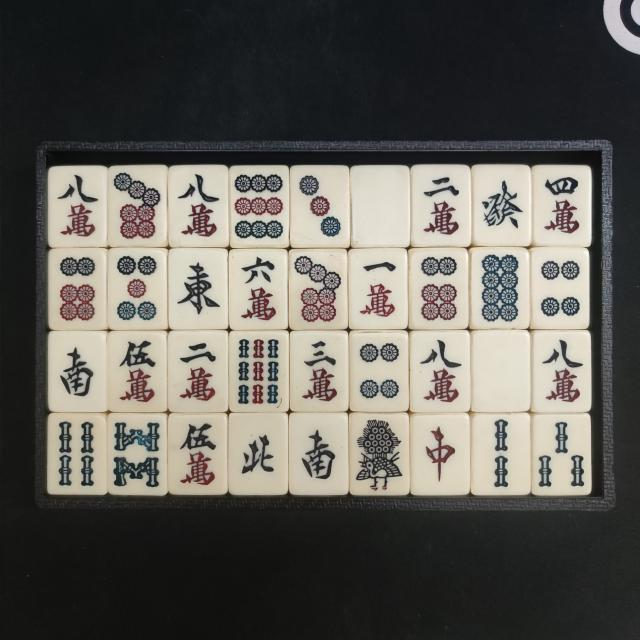hdg: (478, 170, 526, 240)
hdr: (418, 421, 464, 488)
hdw: (356, 172, 406, 241), (476, 337, 526, 404)
hwe: (173, 252, 224, 325)
hwn: (236, 420, 280, 488)
hws: (54, 337, 101, 406), (296, 416, 340, 489)
sb1: (352, 418, 407, 492)
sb2: (480, 418, 524, 491)
sb3: (536, 418, 588, 493)
sb4: (52, 416, 100, 489)
sb8: (111, 418, 162, 492)
sb9: (233, 335, 286, 408)
sc1: (353, 252, 404, 325)
sc2: (414, 170, 466, 240), (173, 336, 222, 406)
sc3: (294, 335, 344, 407)
sc4: (538, 170, 584, 239)
sc5: (174, 418, 220, 490), (115, 337, 161, 407)
sc6: (235, 252, 283, 328)
sc8: (414, 334, 466, 409), (171, 170, 224, 240), (53, 169, 102, 244), (537, 335, 587, 408)
sd3: (293, 171, 343, 241)
sd4: (356, 336, 403, 407), (537, 253, 583, 322)
sd5: (112, 253, 162, 322)
sd6: (52, 254, 102, 324), (417, 252, 463, 323)
sd7: (110, 170, 163, 242), (292, 254, 344, 326)
sd8: (477, 251, 522, 325)
sd9: (232, 170, 286, 245)
